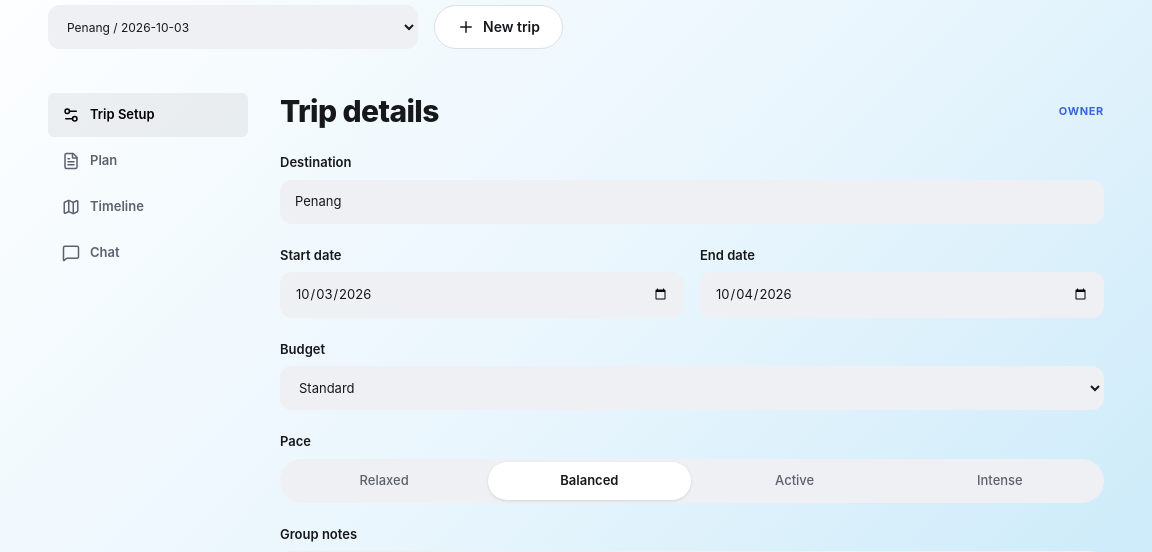
it: trip workspace › allows the owner to reject an outdated pending proposal
Click the tab "Plan" at coordinates (148, 161), box [48,139,248,183]
(page scrolled)
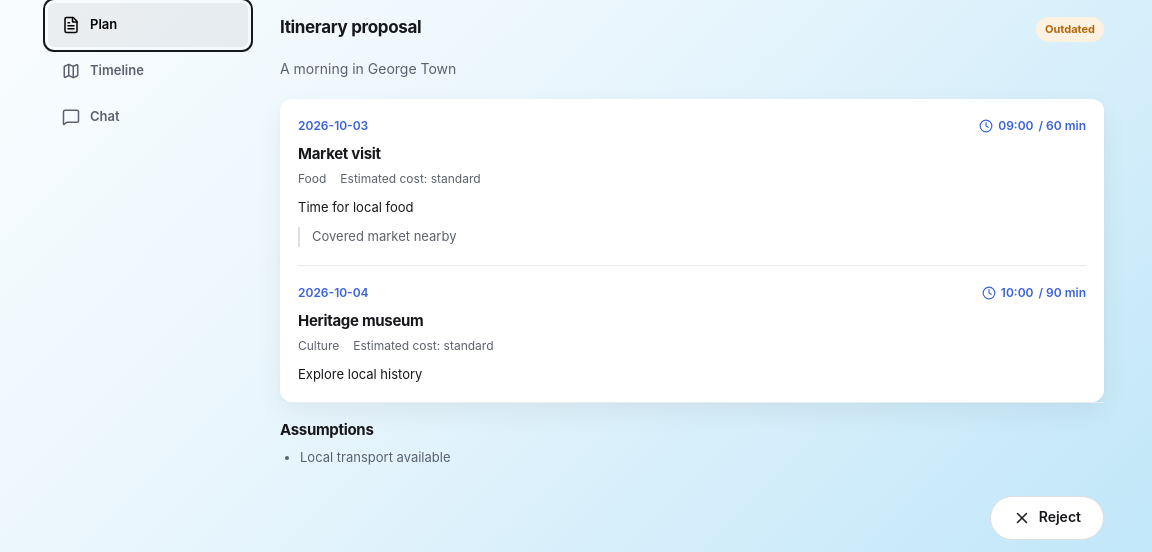
expect the text "Outdated" is shown: met, box [1036,17,1104,42]
Click the button "Reject" at coordinates (1047, 518), box [990,496,1104,540]
(page scrolled)
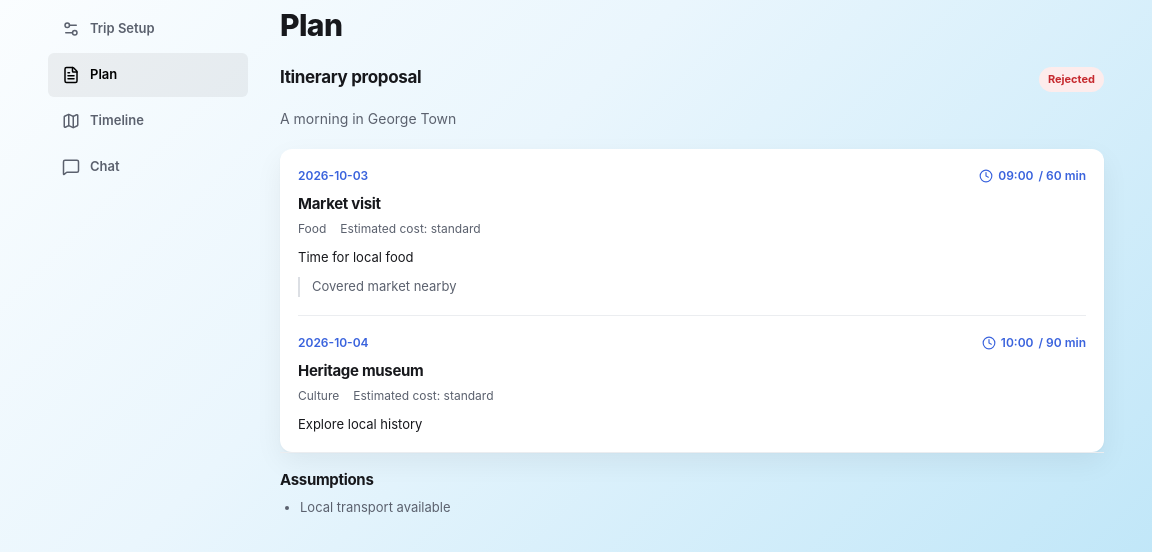
expect the text "Rejected" is shown: met, box [1039,67,1104,92]
